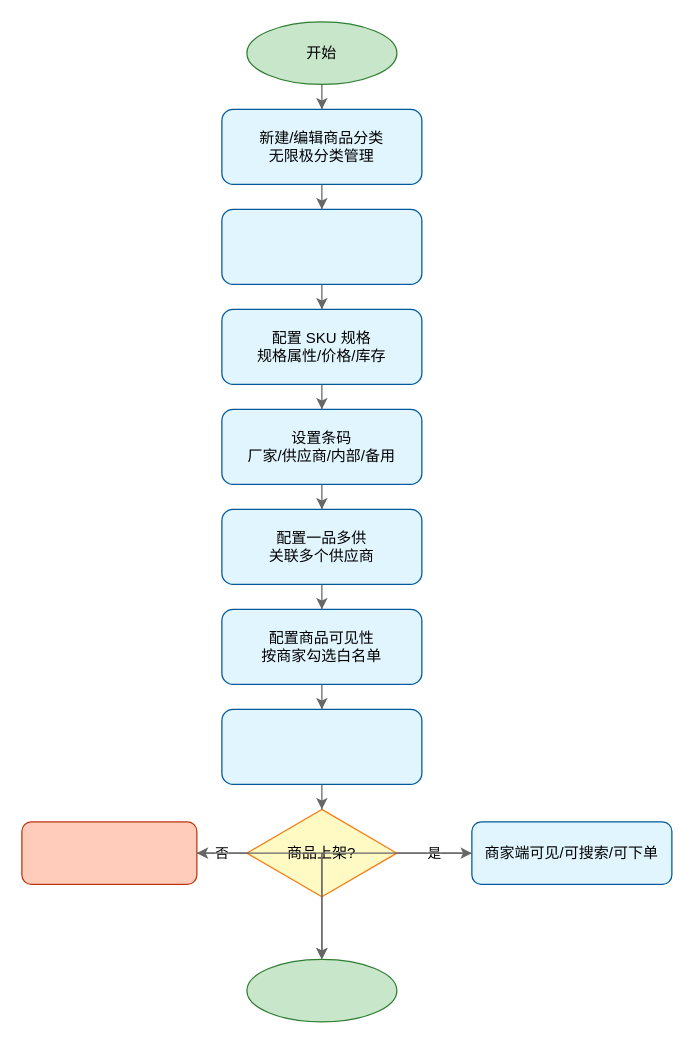
Some shapes in this 694 by 1044 pixel diagram are drawn without their labels. The box of each missing label's shape, as (x1, y1, x2, y2) in pixels:
商品下架 仅后台可见: (21, 821, 197, 884)
完成: (246, 958, 397, 1022)
新增商品基础信息 名称/分类/单位/封面: (221, 208, 422, 284)
配置关键词标签 支撑智能搜索联想: (221, 708, 422, 784)
